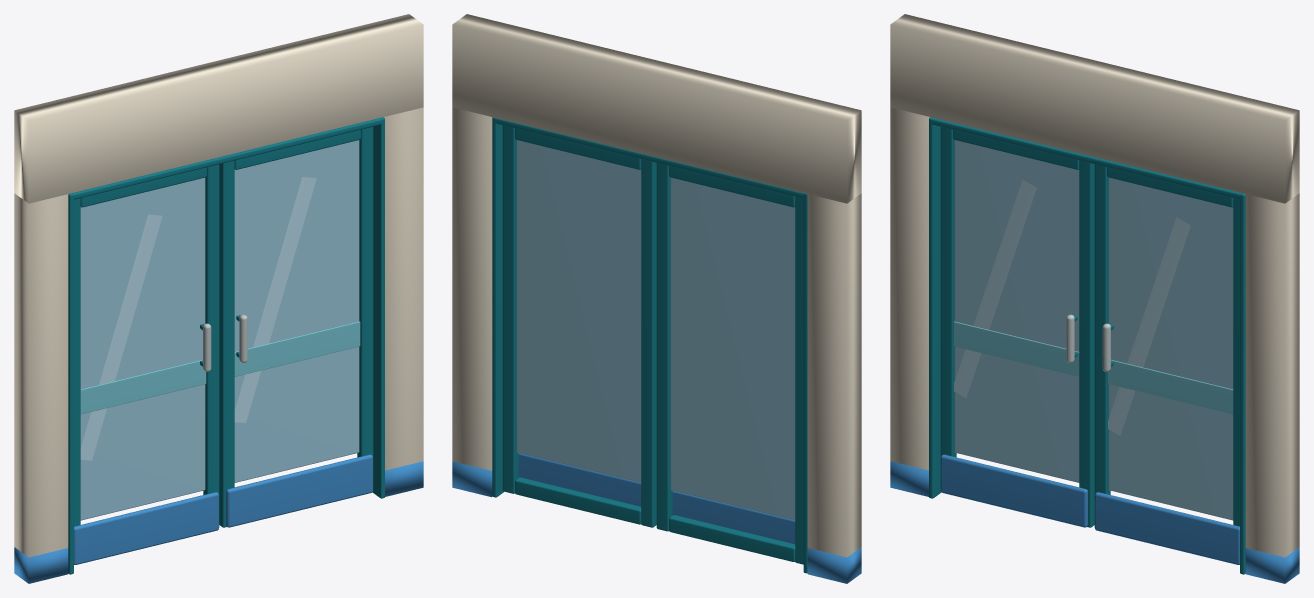
The model's file is Entrance_Double_Doorway.glb.
3 renders of one model, left to right at view 1: azimuth 30°, elevation 25°; view 2: azimuth 150°, elevation 25°; view 3: azimuth 330°, elevation 25°, orthographic.
Visible parts, largest first — view 1: Entrance_Double_Doorway__CRNA_Shared_Matte_Atlas, Door_Hinge_Left__Entrance_Glass, Door_Hinge_Right__Entrance_Glass, Door_Hinge_Right__CRNA_Shared_Matte_Atlas, Door_Hinge_Left__CRNA_Shared_Matte_Atlas, Door_Hinge_Left__Entrance_Opaque_Graphics_Atlas, Door_Hinge_Right__Entrance_Opaque_Graphics_Atlas; view 2: Entrance_Double_Doorway__CRNA_Shared_Matte_Atlas, Door_Hinge_Left__Entrance_Glass, Door_Hinge_Right__Entrance_Glass, Door_Hinge_Right__CRNA_Shared_Matte_Atlas, Door_Hinge_Left__CRNA_Shared_Matte_Atlas; view 3: Entrance_Double_Doorway__CRNA_Shared_Matte_Atlas, Door_Hinge_Right__Entrance_Glass, Door_Hinge_Left__Entrance_Glass, Door_Hinge_Left__CRNA_Shared_Matte_Atlas, Door_Hinge_Right__CRNA_Shared_Matte_Atlas, Door_Hinge_Right__Entrance_Opaque_Graphics_Atlas, Door_Hinge_Left__Entrance_Opaque_Graphics_Atlas.
Part boxes in pixels (x1,y1,x2,y2): Entrance_Double_Doorway__CRNA_Shared_Matte_Atlas: [14, 14, 423, 583]; Door_Hinge_Left__Entrance_Glass: [80, 177, 205, 520]; Door_Hinge_Right__Entrance_Glass: [234, 140, 359, 482]; Door_Hinge_Right__CRNA_Shared_Matte_Atlas: [219, 127, 373, 527]; Door_Hinge_Left__CRNA_Shared_Matte_Atlas: [74, 164, 219, 564]; Door_Hinge_Left__Entrance_Opaque_Graphics_Atlas: [80, 214, 206, 460]; Door_Hinge_Right__Entrance_Opaque_Graphics_Atlas: [234, 177, 360, 423]; Entrance_Double_Doorway__CRNA_Shared_Matte_Atlas: [452, 14, 861, 583]; Door_Hinge_Left__Entrance_Glass: [670, 177, 795, 520]; Door_Hinge_Right__Entrance_Glass: [516, 140, 641, 482]; Door_Hinge_Right__CRNA_Shared_Matte_Atlas: [502, 125, 656, 527]; Door_Hinge_Left__CRNA_Shared_Matte_Atlas: [656, 163, 803, 564]; Entrance_Double_Doorway__CRNA_Shared_Matte_Atlas: [890, 14, 1299, 583]; Door_Hinge_Right__Entrance_Glass: [1108, 177, 1233, 520]; Door_Hinge_Left__Entrance_Glass: [954, 140, 1079, 482]; Door_Hinge_Left__CRNA_Shared_Matte_Atlas: [940, 127, 1094, 527]; Door_Hinge_Right__CRNA_Shared_Matte_Atlas: [1094, 164, 1239, 564]; Door_Hinge_Right__Entrance_Opaque_Graphics_Atlas: [1107, 217, 1233, 435]; Door_Hinge_Left__Entrance_Opaque_Graphics_Atlas: [953, 179, 1079, 397].
Bounding box in the file's own units: 2.5 × 2.8 × 0.1755.
3 materials, 3 textured.
